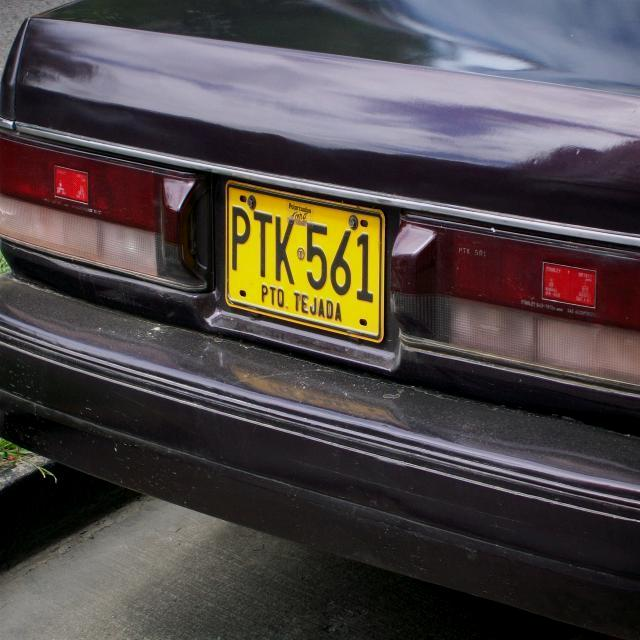placa: (224, 173, 386, 347)
